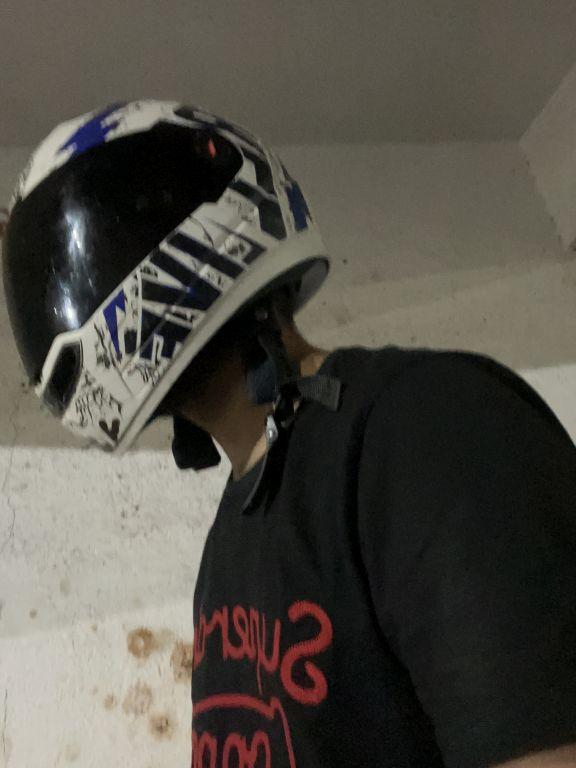helmet: (2, 79, 346, 495)
